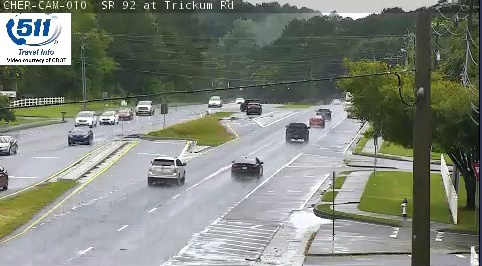car: (149, 157, 185, 180), (231, 156, 262, 177), (286, 122, 309, 140), (316, 108, 331, 121), (308, 115, 324, 127)
